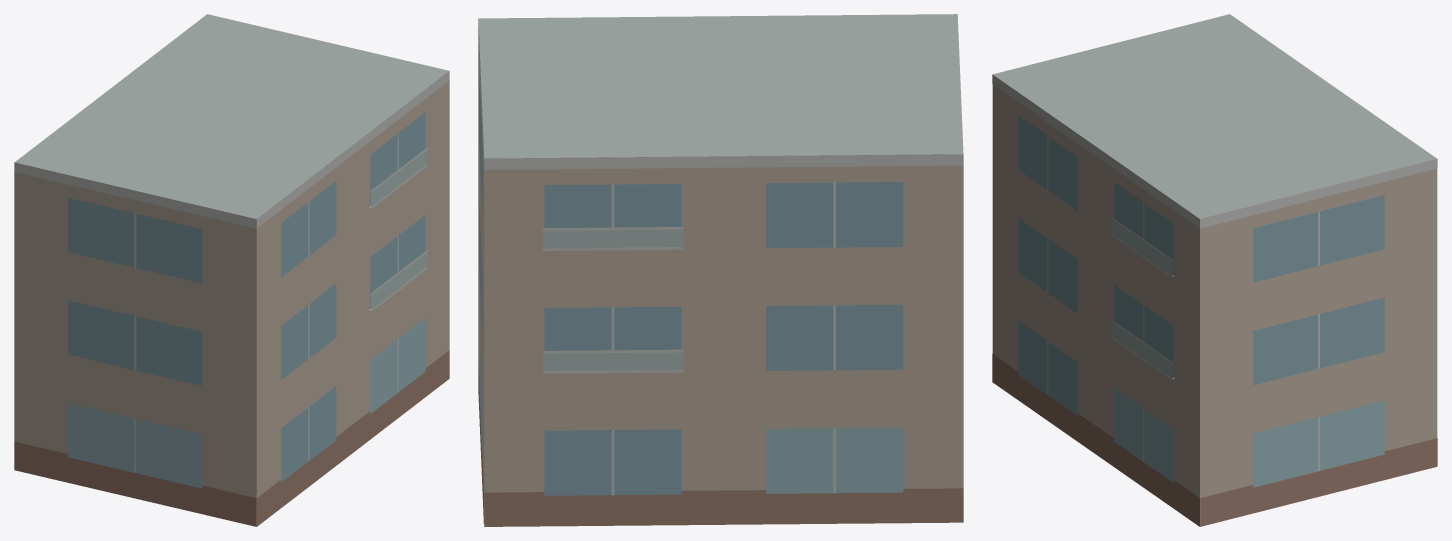
The model's file is survey-upis-32721711.glb.
3 views of the same model, side by side, from view 1: azimuth 30°, elevation 25°; view 2: azimuth 150°, elevation 25°; view 3: azimuth 270°, elevation 25° (orthographic). The views are drawn at different scales.
Visible parts, largest first — view 1: survey-upis-32721711.tmp; view 2: survey-upis-32721711.tmp; view 3: survey-upis-32721711.tmp.
Part boxes in pixels (left/top/right/bottom): survey-upis-32721711.tmp: left=14, top=14, right=449, bottom=526; survey-upis-32721711.tmp: left=478, top=14, right=963, bottom=526; survey-upis-32721711.tmp: left=992, top=14, right=1437, bottom=526.
Bounding box in the file's own units: 11.3 × 7.9 × 10.36.
